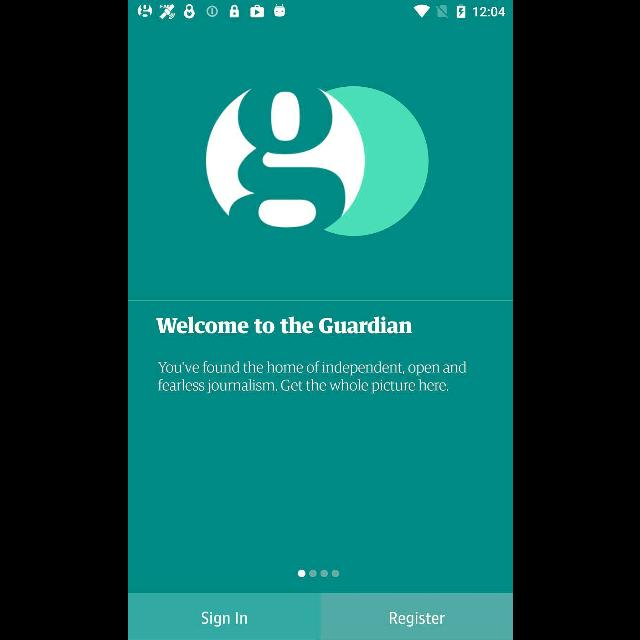image: (205, 86, 429, 237)
pageindicator: (297, 569, 339, 577)
text: (158, 361, 466, 394), (156, 316, 412, 334)
textbutton: (127, 594, 319, 640), (320, 594, 512, 640)
uppertaskbar: (128, 1, 512, 23)
